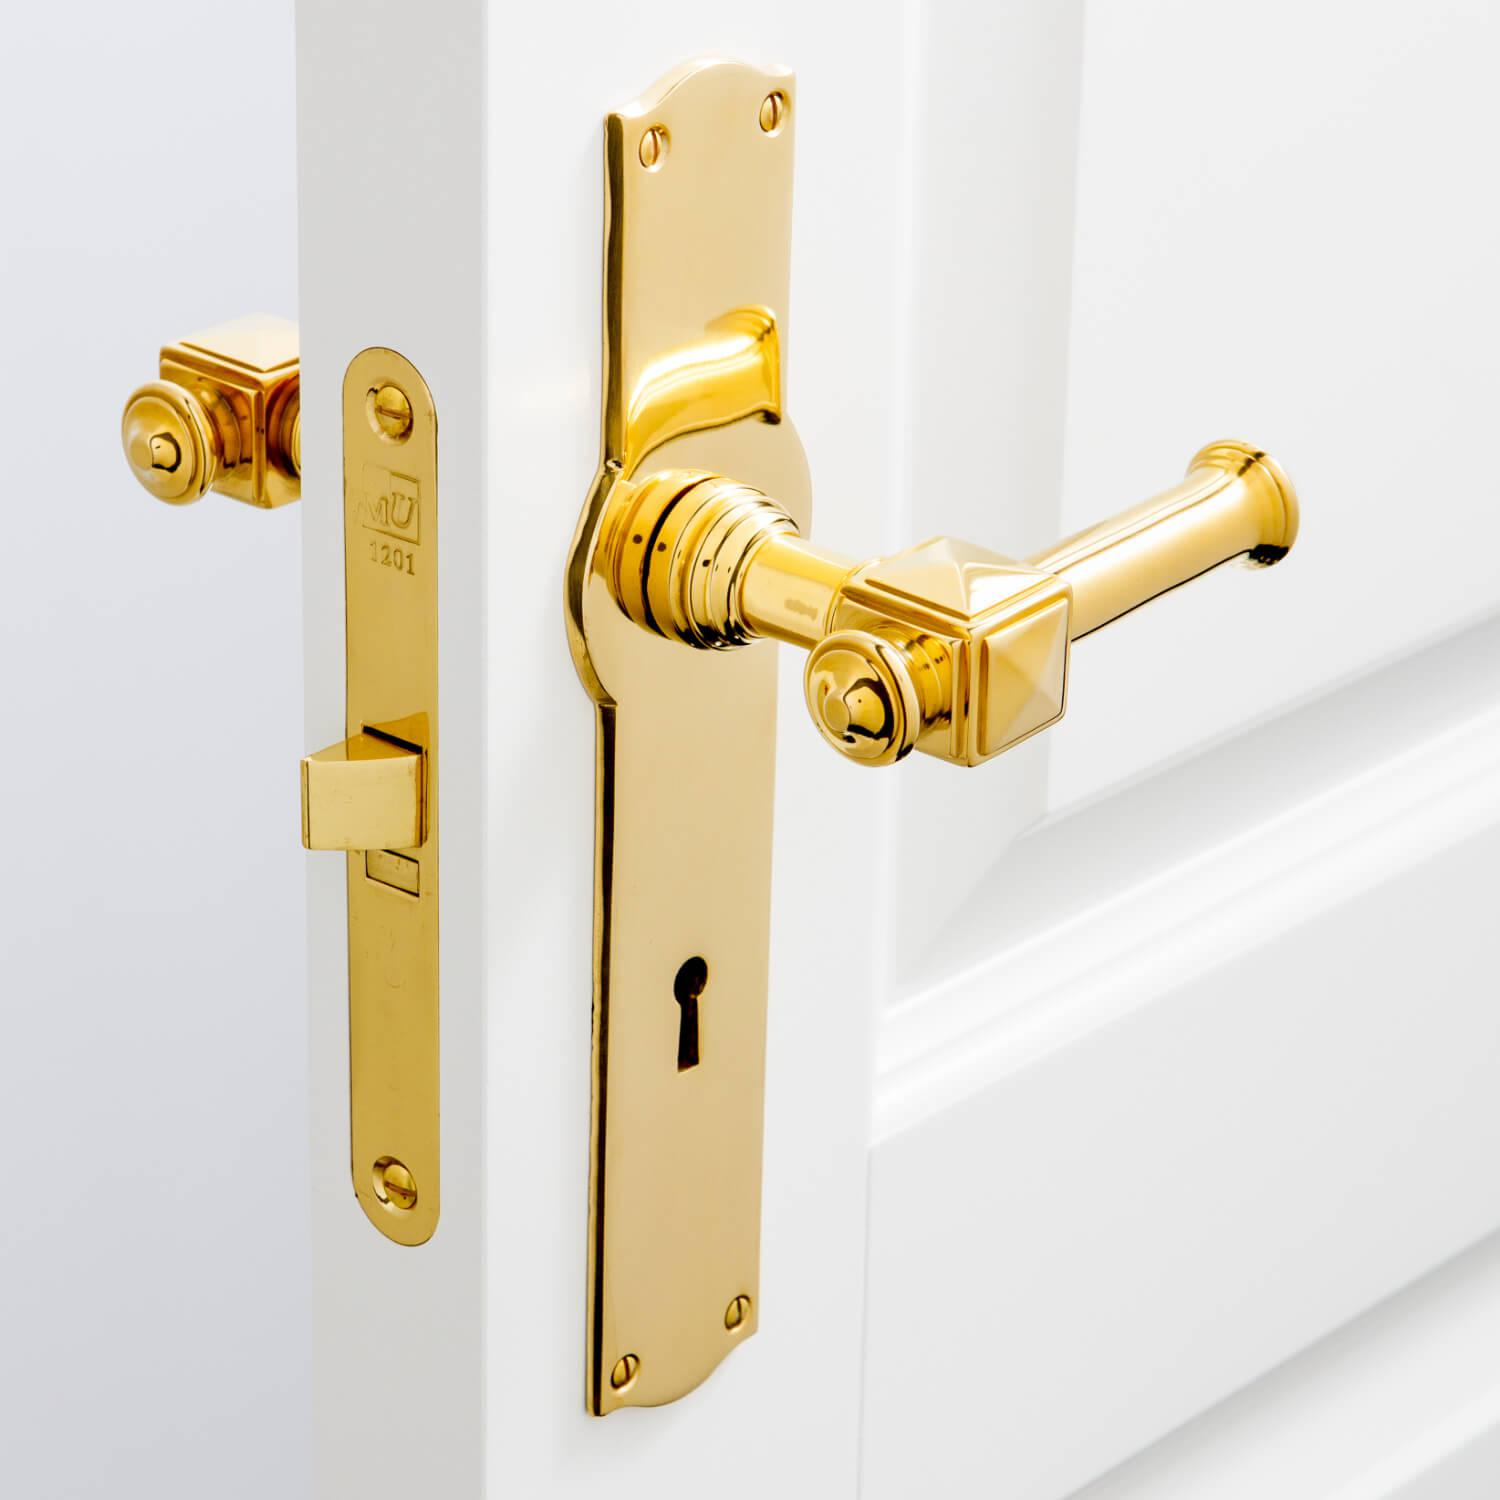doorhandle: (441, 317, 1405, 801)
